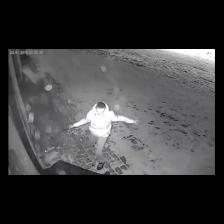person: (70, 103, 138, 170)
